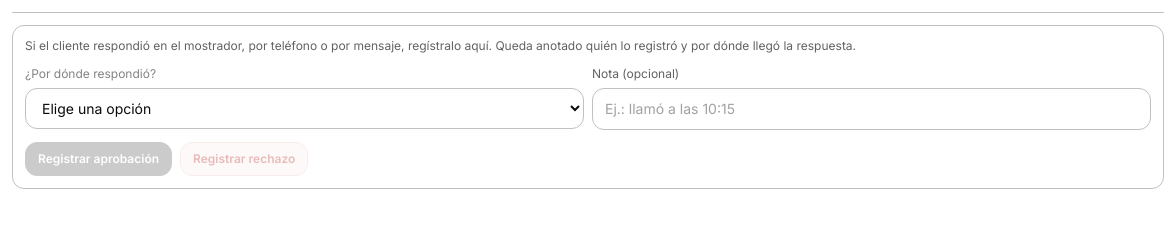
Test: staff record an approval with the channel it arrived by, and the ticket prints after the server says yes
Step 1. Select "Llamada" in the dropdown labelled "¿Por dónde respondió?" → (304, 108), box [25, 88, 584, 129]
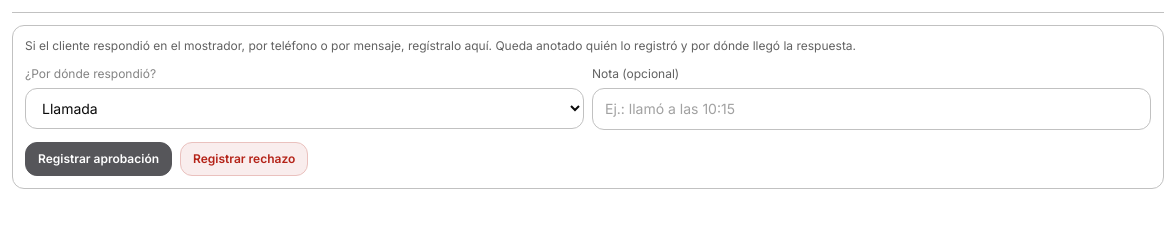
Step 2. Type "Llamó a las 10." into the field labelled "Nota (opcional)" → (872, 109), box [592, 88, 1151, 130]
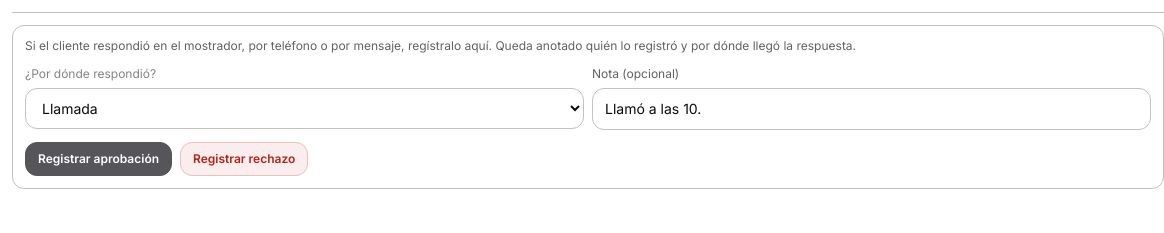
Step 3. Click the button "Registrar aprobación" → (98, 159), box [25, 142, 172, 176]
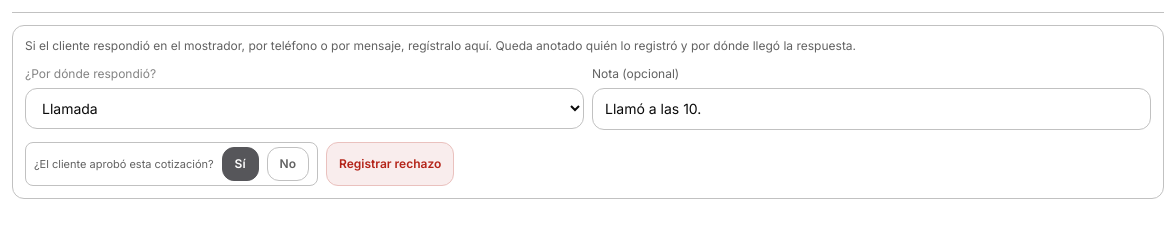
Step 4. Click the button "Sí" → (240, 164), box [222, 147, 259, 181]
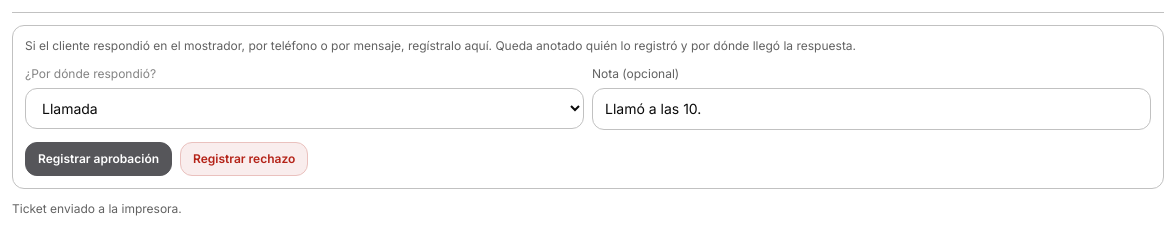
Expected: the text "Ticket enviado a la impresora." is shown, [12, 201, 182, 216]
